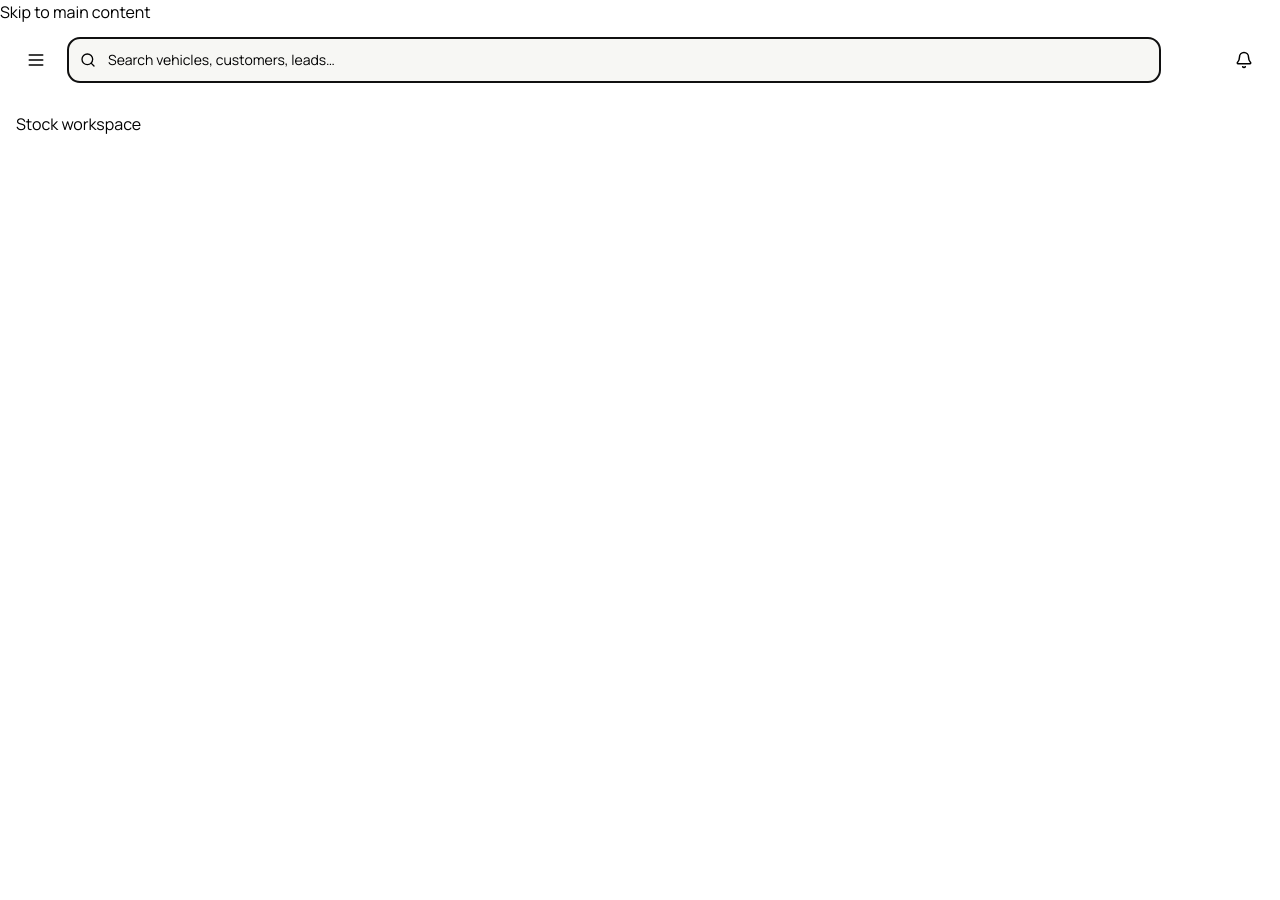
Test case: admin design semantics and modal behaviour (DOM, not visual layout) › dismisses on the backdrop but not for interaction inside the dialog
Click the button with aria-label "Search MOTOR.OS". click: (221, 60)
box: [68, 38, 1160, 82]
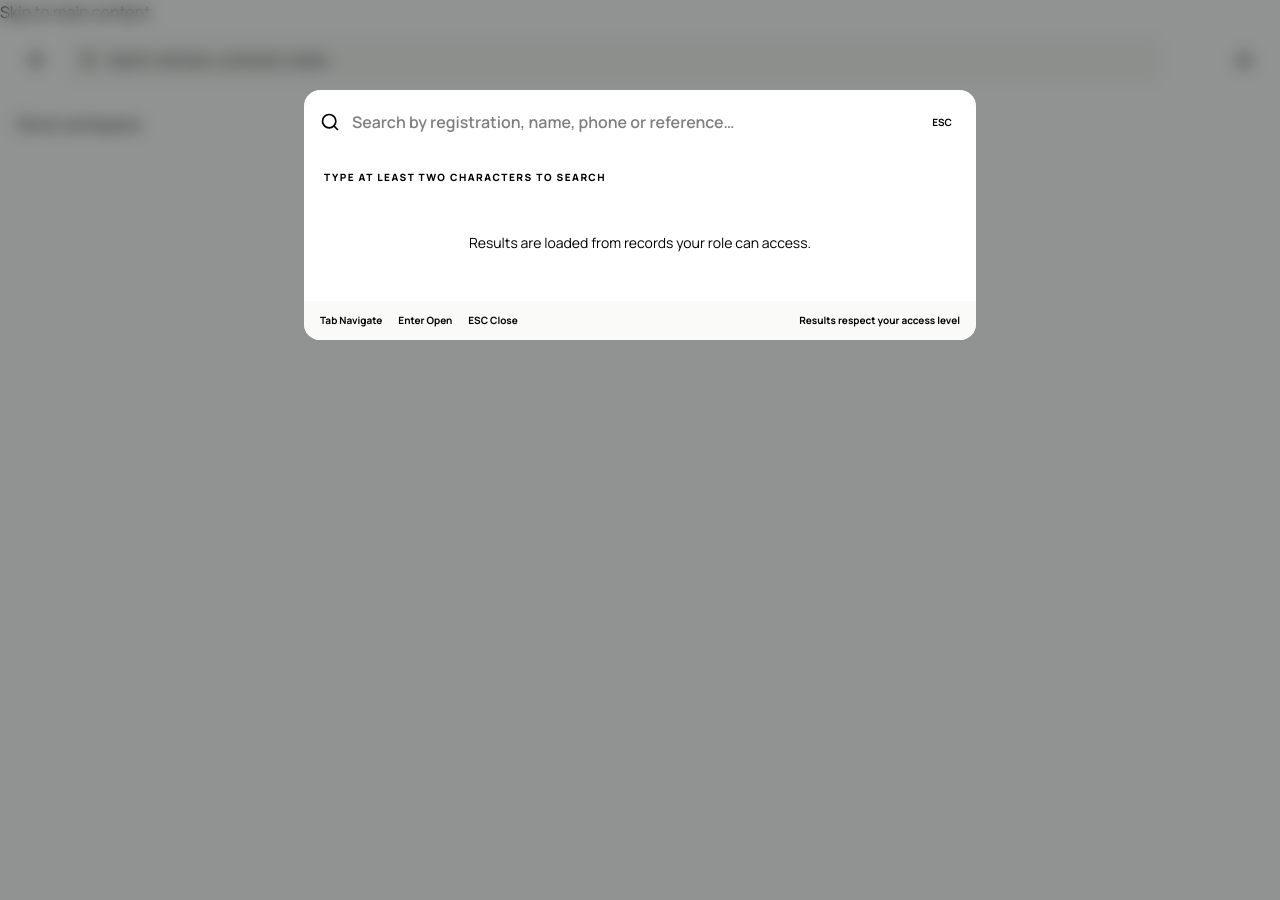
Press the mouse on the field labelled "Search" at (632, 122), box [352, 90, 912, 154]
Check: the dialog named "Global search" is shown
Press the mouse on the dialog named "Global search" at (640, 450), box [0, 0, 1279, 899]
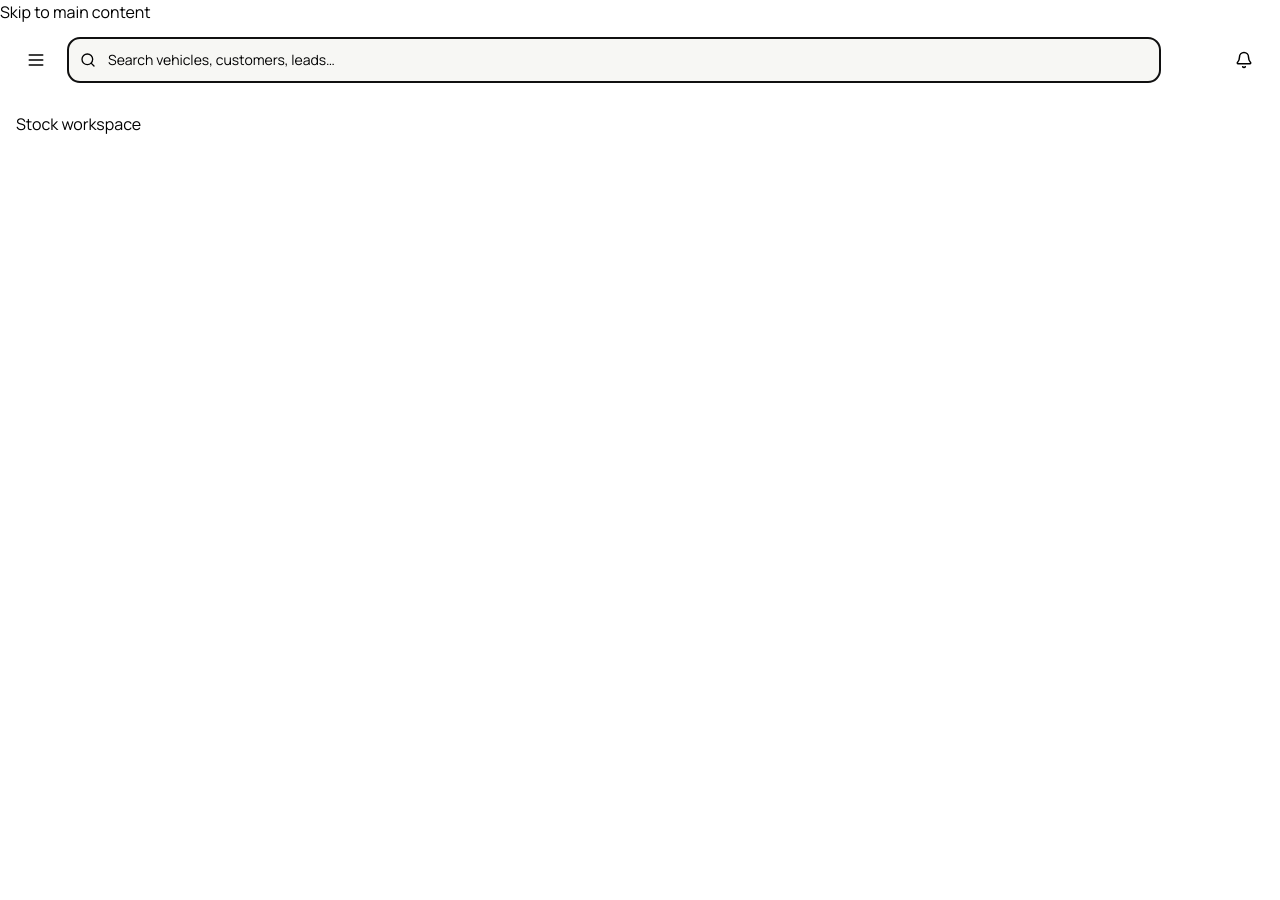
Check: the dialog is gone
